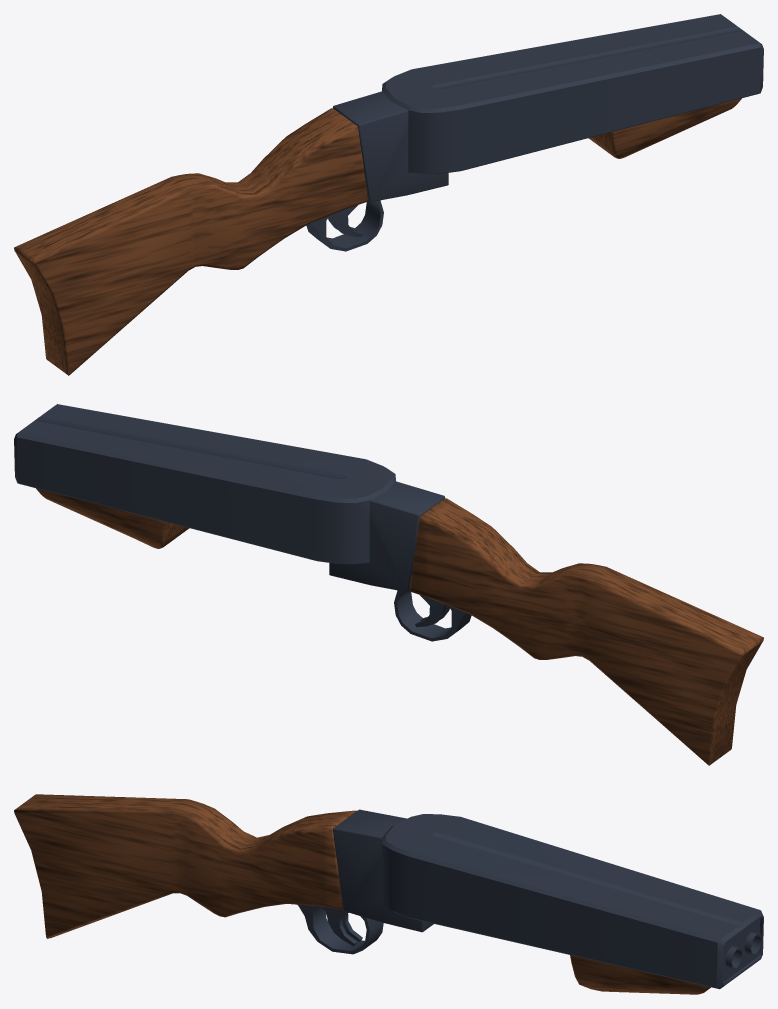
The model's file is DoubleBarrel.fbx.
3 renders of one model, top to bottom at view 1: azimuth 30°, elevation 25°; view 2: azimuth 150°, elevation 25°; view 3: azimuth 330°, elevation 25°, orthographic.
Parts seen in each view (by area): view 1: Cube; view 2: Cube; view 3: Cube.
Boxes of the visible parts, x1,y1,x2,y2 form: Cube: (14, 14, 763, 375); Cube: (14, 404, 763, 765); Cube: (14, 794, 763, 994).
Bounding box in the file's own units: 2087 × 520 × 265.
